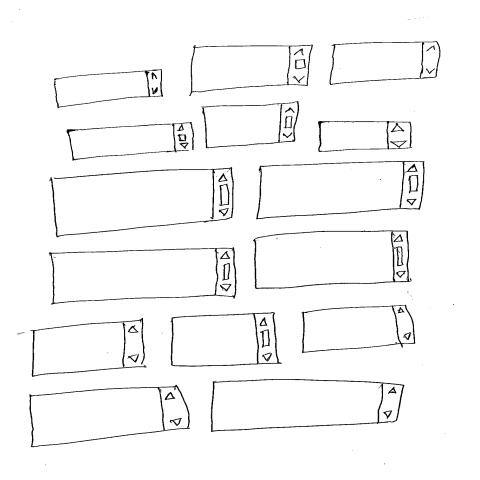Textarea: (51, 168, 236, 239), (49, 248, 238, 306), (210, 379, 406, 433), (256, 160, 426, 221), (29, 387, 191, 449), (253, 230, 411, 291), (31, 319, 146, 378), (190, 45, 314, 97), (170, 312, 282, 368), (301, 306, 417, 355), (66, 122, 196, 162), (330, 41, 443, 86), (202, 102, 302, 150), (54, 70, 165, 110), (317, 121, 414, 153)
